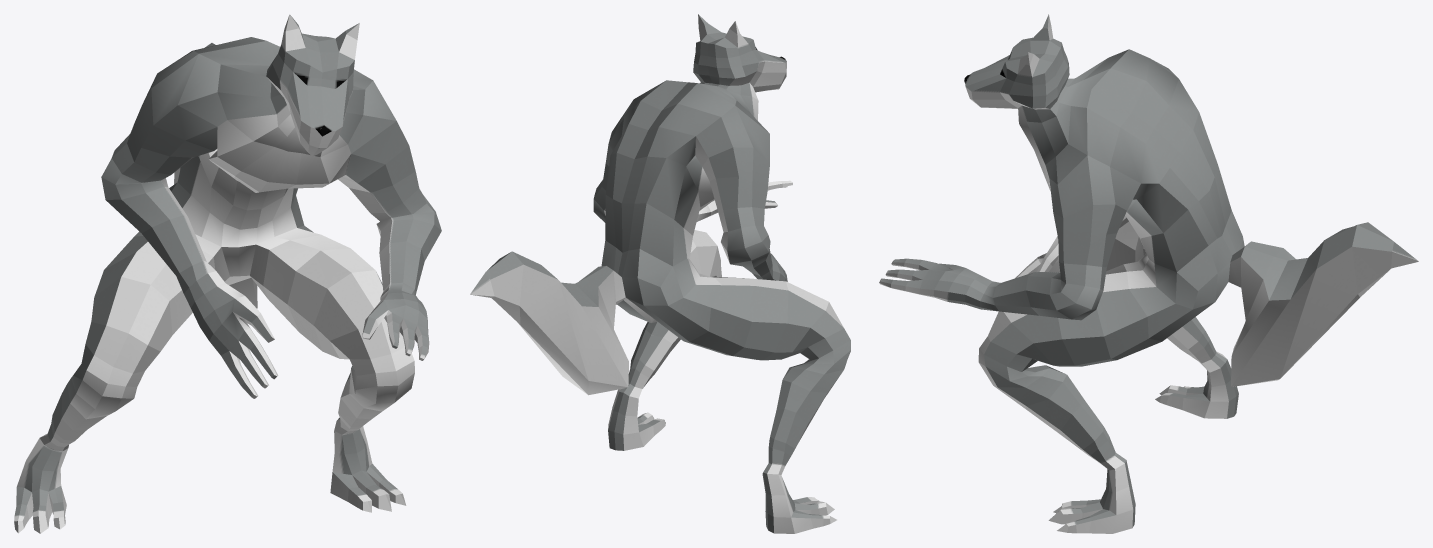
File: WolfAttack(95).obj
3 views of the same model, side by side, from view 1: azimuth 30°, elevation 25°; view 2: azimuth 150°, elevation 25°; view 3: azimuth 270°, elevation 25° (orthographic). The views are drawn at different scales.
Visible parts, largest first — view 1: Box001; view 2: Box001; view 3: Box001.
Part boxes in pixels (x1,y1,x2,y2): Box001: [14, 14, 441, 533]; Box001: [470, 14, 850, 533]; Box001: [879, 14, 1418, 533].
Bounding box in the file's own units: 84.37 × 118 × 123.
